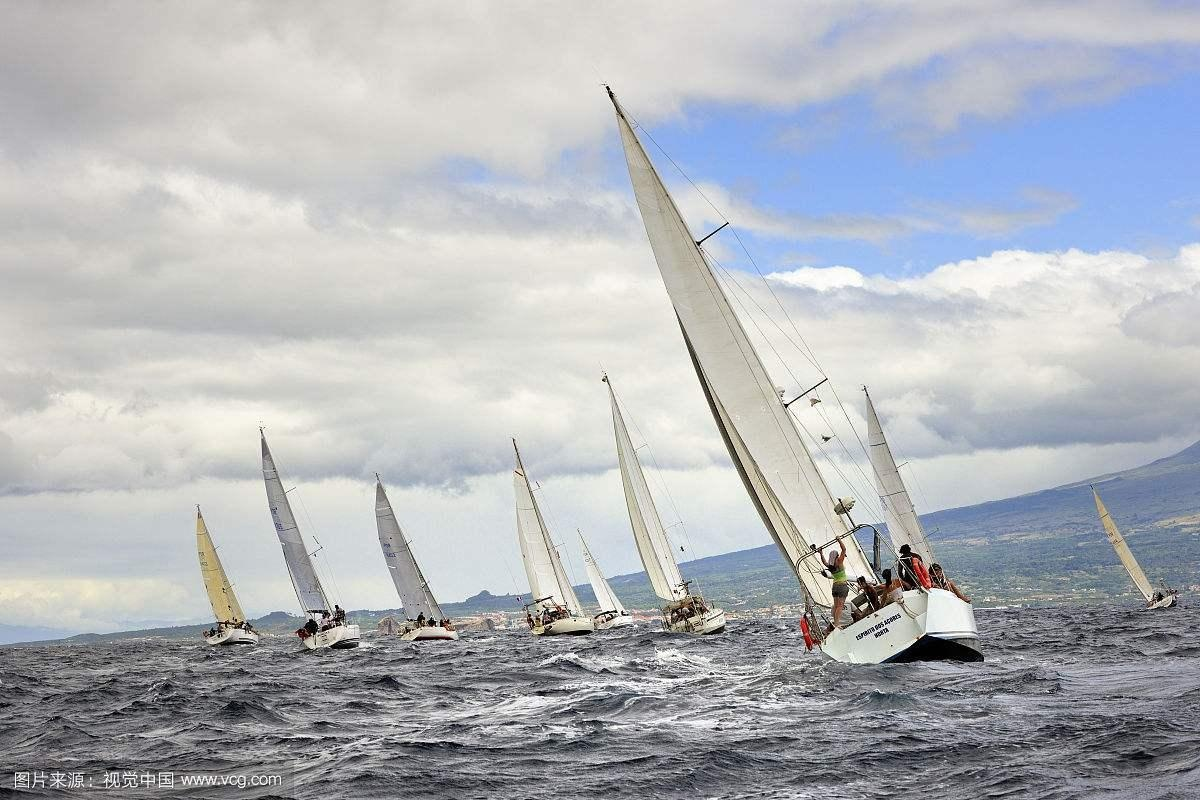fanchuan: (606, 61, 985, 665), (608, 364, 723, 631), (262, 427, 361, 653), (505, 443, 593, 640), (371, 462, 460, 648), (1082, 467, 1188, 623), (188, 509, 260, 656)
